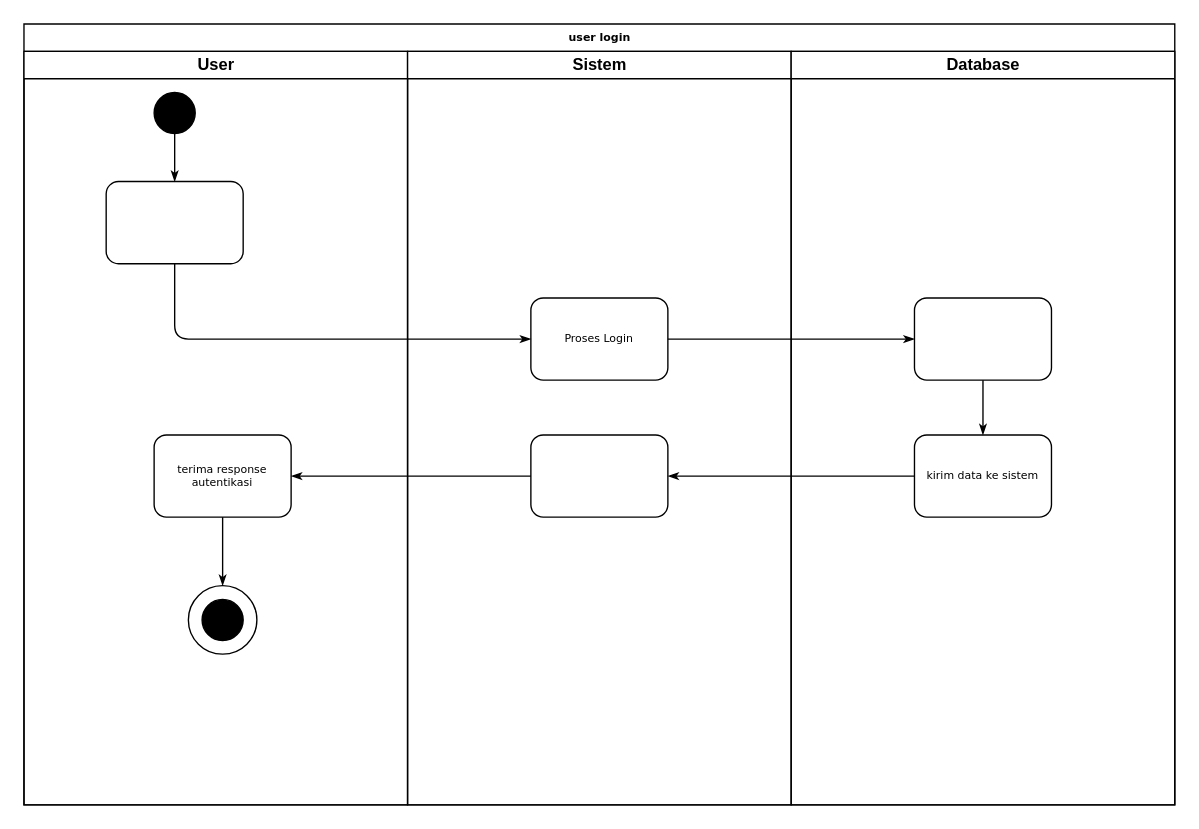
This 1199x829 diagram has some shape labels left out. Here are the shapes that lost their labels. From the top down, the centre of each, then its label:
the point at 174,222: request login
the point at 982,338: Otentikasi data
the point at 599,475: Terima Data autentikasi
